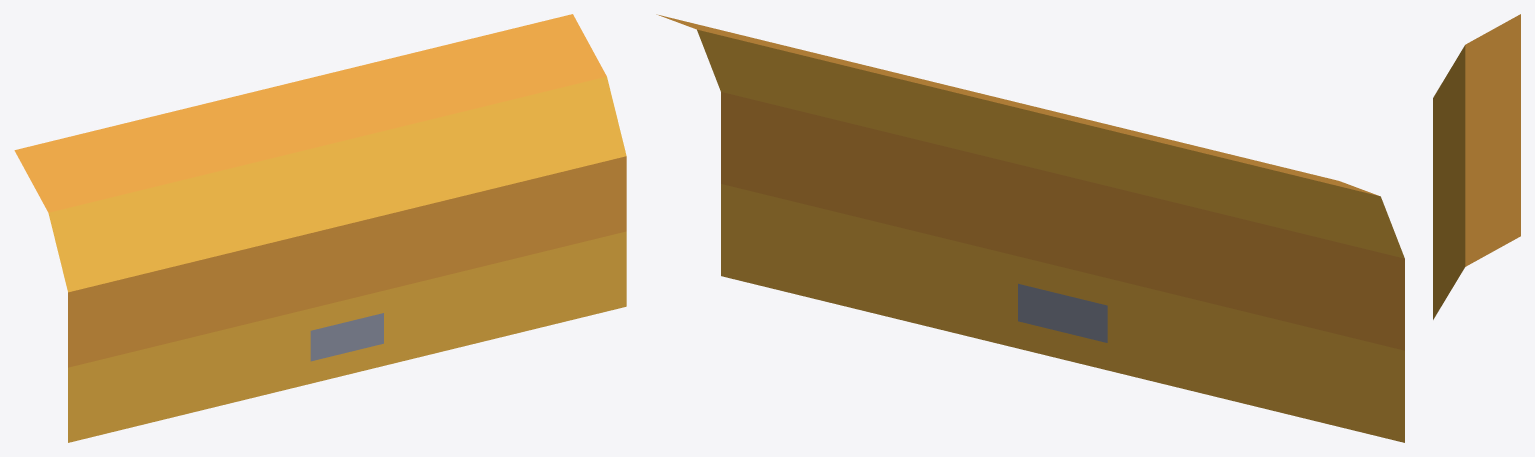
Rendered from DoorWideOpen-transformed.glb.
3 renders of one model, left to right at view 1: azimuth 30°, elevation 25°; view 2: azimuth 150°, elevation 25°; view 3: azimuth 270°, elevation 25°, orthographic. The views are drawn at different scales.
Parts seen in each view (by area): view 1: door-wide-open; view 2: door-wide-open; view 3: door-wide-open.
Part boxes in pixels (x1,y1,x2,y2): door-wide-open: [14, 14, 626, 442]; door-wide-open: [656, 14, 1404, 442]; door-wide-open: [1433, 14, 1520, 319].
Bounding box in the file's own units: 1.8 × 0.7802 × 0.3001.
